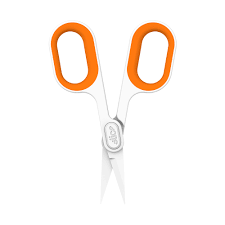tihiras: (48, 15, 197, 207)
